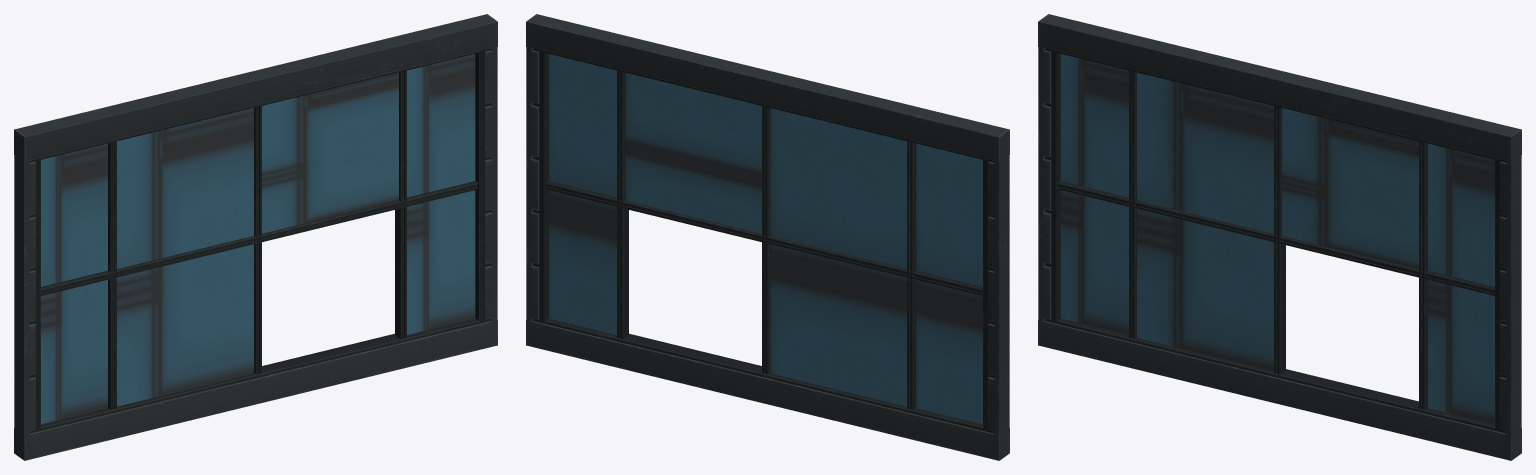
The model's file is Cafeteria Window.fbx.
The picture shows the model from 3 angles, left to right: view 1: azimuth 30°, elevation 25°; view 2: azimuth 150°, elevation 25°; view 3: azimuth 330°, elevation 25°; orthographic projection.
Visible parts, largest first — view 1: Cafeteria Pane, Cafeteria Frame; view 2: Cafeteria Pane, Cafeteria Frame; view 3: Cafeteria Pane, Cafeteria Frame.
Part boxes in pixels (x1=…): Cafeteria Pane: x1=41, y1=54, x2=475, y2=424; Cafeteria Frame: x1=14, y1=14, x2=497, y2=460; Cafeteria Pane: x1=548, y1=54, x2=982, y2=424; Cafeteria Frame: x1=526, y1=14, x2=1009, y2=460; Cafeteria Pane: x1=1060, y1=54, x2=1494, y2=424; Cafeteria Frame: x1=1038, y1=14, x2=1521, y2=460.
Bounding box in the file's own units: 5273 × 3448 × 200.
